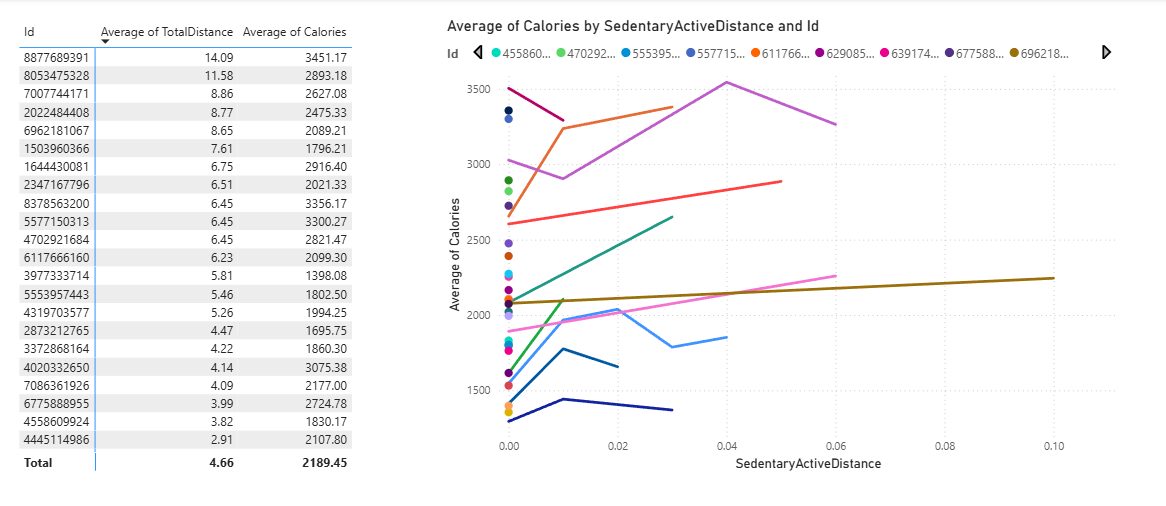

The dashboard page shown, as its layout file describes it:
{"tool":"powerbi","page":{"name":"Page 1","canvas":[1280,720],"ordinal":0},"visuals":[{"type":"pivotTable","fields":{"Values":["Avg(dailyActivity_merged.TotalDistance)","Avg(dailyActivity_merged.Calories)"],"Rows":["dailyActivity_merged.Id"]},"box":[16.5,20.6,594.2,503.6],"z":0},{"type":"lineChart","fields":{"Category":["dailyActivity_merged.SedentaryActiveDistance"],"Y":["Avg(dailyActivity_merged.Calories)"],"Series":["dailyActivity_merged.Id"]},"box":[485.8,20.6,747.9,503.6],"z":1}]}

Visuals, with their boxes on the page's 1280x720 design canvas (x1, y1, x2, y2). These are canvas units, not pixel positions in the 1166x506 screenshot, which may show the page scaled, cropped or inside an application window:
pivotTable - Avg(dailyActivity_merged.TotalDistance) x Avg(dailyActivity_merged.Calories): bbox(16, 21, 611, 524)
lineChart - dailyActivity_merged.SedentaryActiveDistance x Avg(dailyActivity_merged.Calories): bbox(486, 21, 1234, 524)
